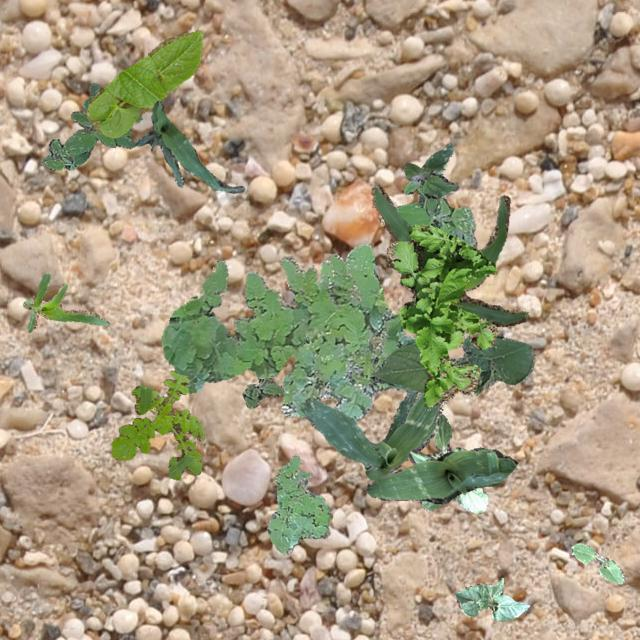crop: (371, 184, 526, 326), (300, 388, 440, 479), (85, 30, 202, 136), (134, 100, 244, 192), (368, 334, 534, 394), (364, 447, 516, 502), (408, 413, 488, 512), (22, 272, 108, 332), (454, 576, 530, 620), (570, 542, 624, 582)
weed: (160, 252, 360, 392), (280, 242, 414, 420), (386, 224, 496, 406), (110, 369, 204, 478), (41, 82, 140, 168), (266, 454, 332, 554), (394, 184, 476, 248), (402, 143, 458, 215), (242, 376, 282, 406)
